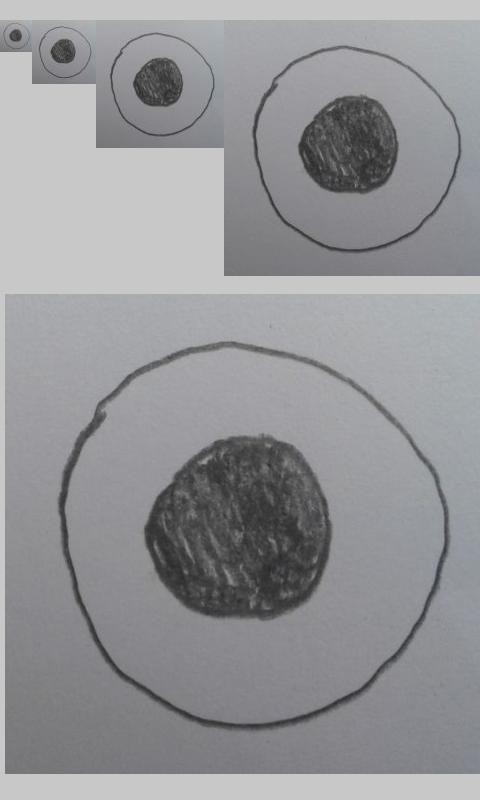radio_button: (55, 336, 452, 735), (249, 43, 463, 255), (109, 31, 215, 137), (37, 24, 94, 80), (2, 22, 31, 50)
